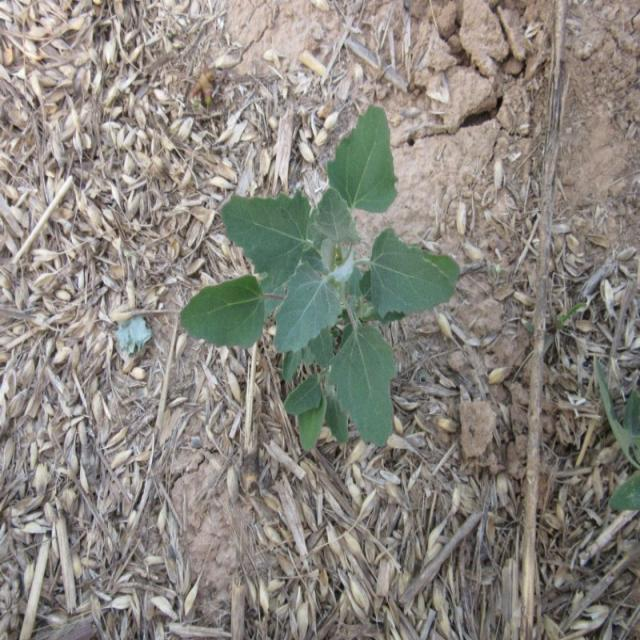ca: (184, 104, 460, 453)
